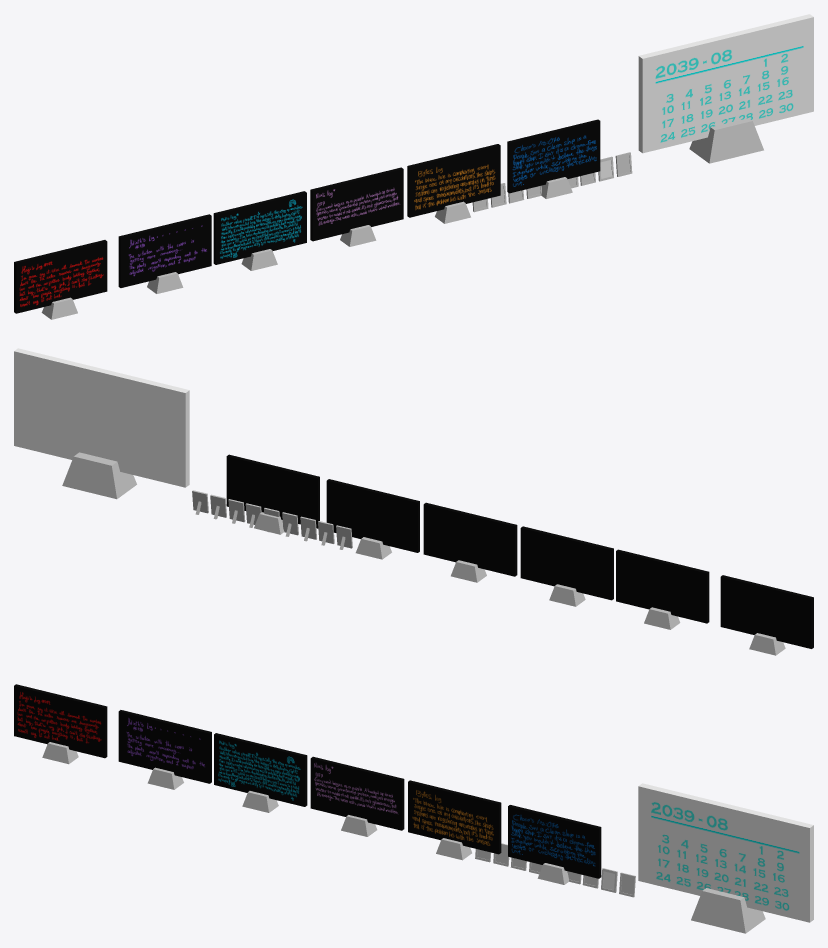
File: geo_BitacorasCalendarioFotos.fbx
3 views of the same model, one above another, from view 1: azimuth 30°, elevation 25°; view 2: azimuth 150°, elevation 25°; view 3: azimuth 330°, elevation 25° (orthographic).
Parts seen in each view (by area): view 1: geo_Calendario, geo_Bitacora04, geo_Bitacora02, geo_Bitacora05, geo_Bitacora06, geo_Bitacora01, geo_Bitacora03, geo_Base; view 2: geo_Calendario, geo_Bitacora03, geo_Bitacora04, geo_Bitacora05, geo_Bitacora06, geo_Bitacora02, geo_Bitacora01, geo_Base; view 3: geo_Calendario, geo_Bitacora03, geo_Bitacora06, geo_Bitacora02, geo_Bitacora05, geo_Bitacora01, geo_Bitacora04, geo_Base, geo_Base01, geo_Base05, geo_Base04, geo_Base03 (+2 smaller).
Boxes of the visible parts, x1,y1,x2,y2 form: geo_Calendario: (638, 14, 813, 153); geo_Bitacora04: (213, 191, 306, 264); geo_Bitacora02: (407, 144, 500, 217); geo_Bitacora05: (118, 214, 211, 287); geo_Bitacora06: (14, 240, 107, 313); geo_Bitacora01: (507, 119, 600, 193); geo_Bitacora03: (310, 167, 403, 241); geo_Base: (689, 118, 763, 163); geo_Calendario: (14, 348, 189, 487); geo_Bitacora03: (423, 502, 517, 576); geo_Bitacora04: (520, 526, 613, 600); geo_Bitacora05: (616, 549, 709, 623); geo_Bitacora06: (720, 575, 813, 648); geo_Bitacora02: (326, 479, 419, 552); geo_Bitacora01: (226, 454, 319, 528); geo_Base: (62, 452, 136, 499); geo_Calendario: (638, 783, 813, 922); geo_Bitacora03: (310, 756, 404, 830); geo_Bitacora06: (14, 684, 107, 758); geo_Bitacora02: (408, 780, 501, 854); geo_Bitacora05: (118, 710, 211, 783); geo_Bitacora01: (508, 805, 601, 878); geo_Bitacora04: (214, 733, 307, 806); geo_Base: (691, 888, 765, 933); geo_Base01: (42, 742, 78, 764); geo_Base05: (242, 791, 278, 812); geo_Base04: (341, 815, 377, 836); geo_Base03: (436, 838, 471, 860).
Size of the model in its own units: 566 by 78.29 by 24.7.
